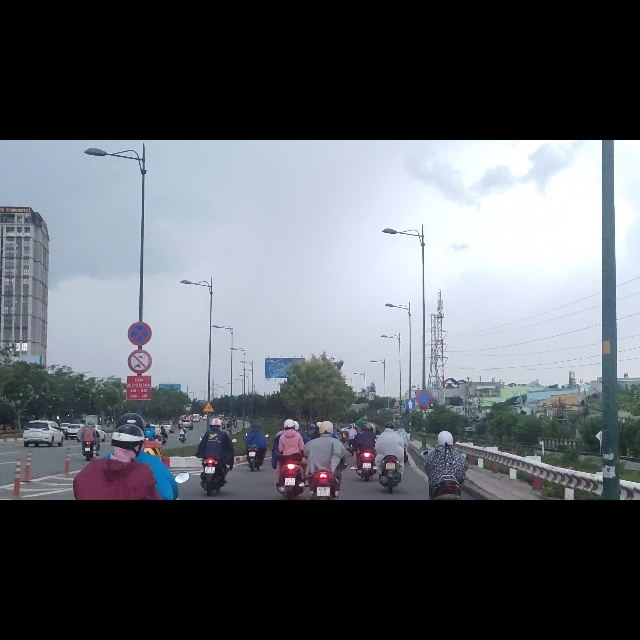bien_cam: (128, 372, 152, 414), (128, 324, 152, 364), (415, 443, 433, 475), (202, 464, 214, 484), (405, 460, 414, 478)
